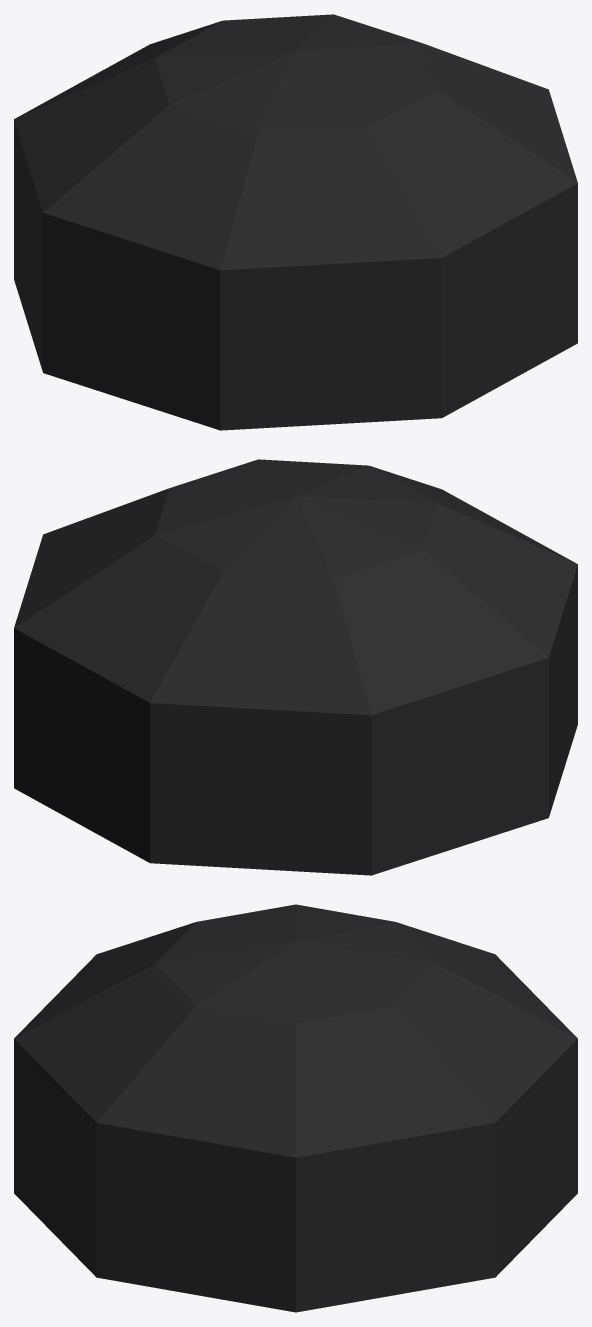
3 views of the same model, one above another, from view 1: azimuth 30°, elevation 25°; view 2: azimuth 150°, elevation 25°; view 3: azimuth 270°, elevation 25° (orthographic). The views are drawn at different scales.
Visible parts, largest first — view 1: mesh00; view 2: mesh00; view 3: mesh00.
Part boxes in pixels (x1=…): mesh00: x1=14, y1=14, x2=577, y2=430; mesh00: x1=14, y1=459, x2=577, y2=875; mesh00: x1=14, y1=904, x2=577, y2=1312.
Size of the model in its own units: 60001 by 41988 by 60001.
